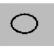no answer: (10, 12, 39, 35)
